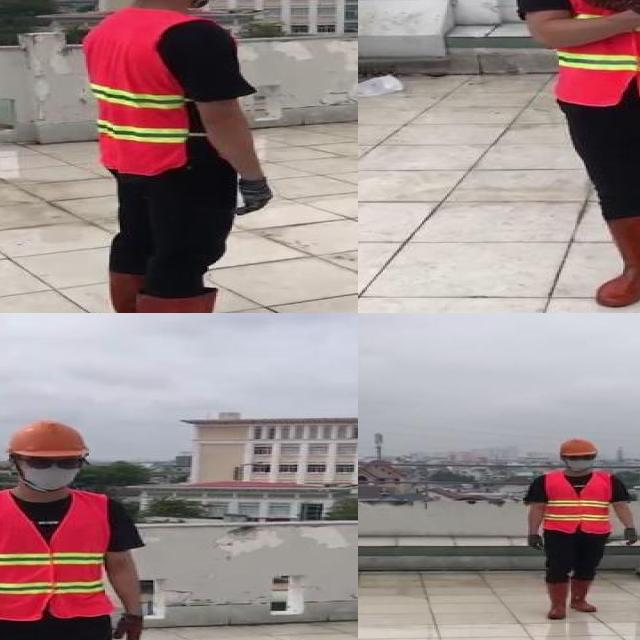boots: (104, 267, 203, 313), (594, 215, 640, 309), (137, 290, 260, 313), (238, 179, 279, 220), (541, 579, 573, 620), (570, 578, 600, 614)
face_mask: (21, 454, 86, 492)
glasses: (22, 453, 88, 472)
hand_glove: (555, 0, 638, 10), (115, 613, 142, 640)
head_helmet: (0, 418, 97, 464), (558, 437, 598, 457)
person: (71, 0, 293, 313), (514, 0, 640, 313), (0, 418, 162, 640), (520, 436, 640, 624)
vest: (84, 7, 209, 177), (0, 492, 113, 620), (535, 0, 640, 106), (542, 472, 616, 535)
